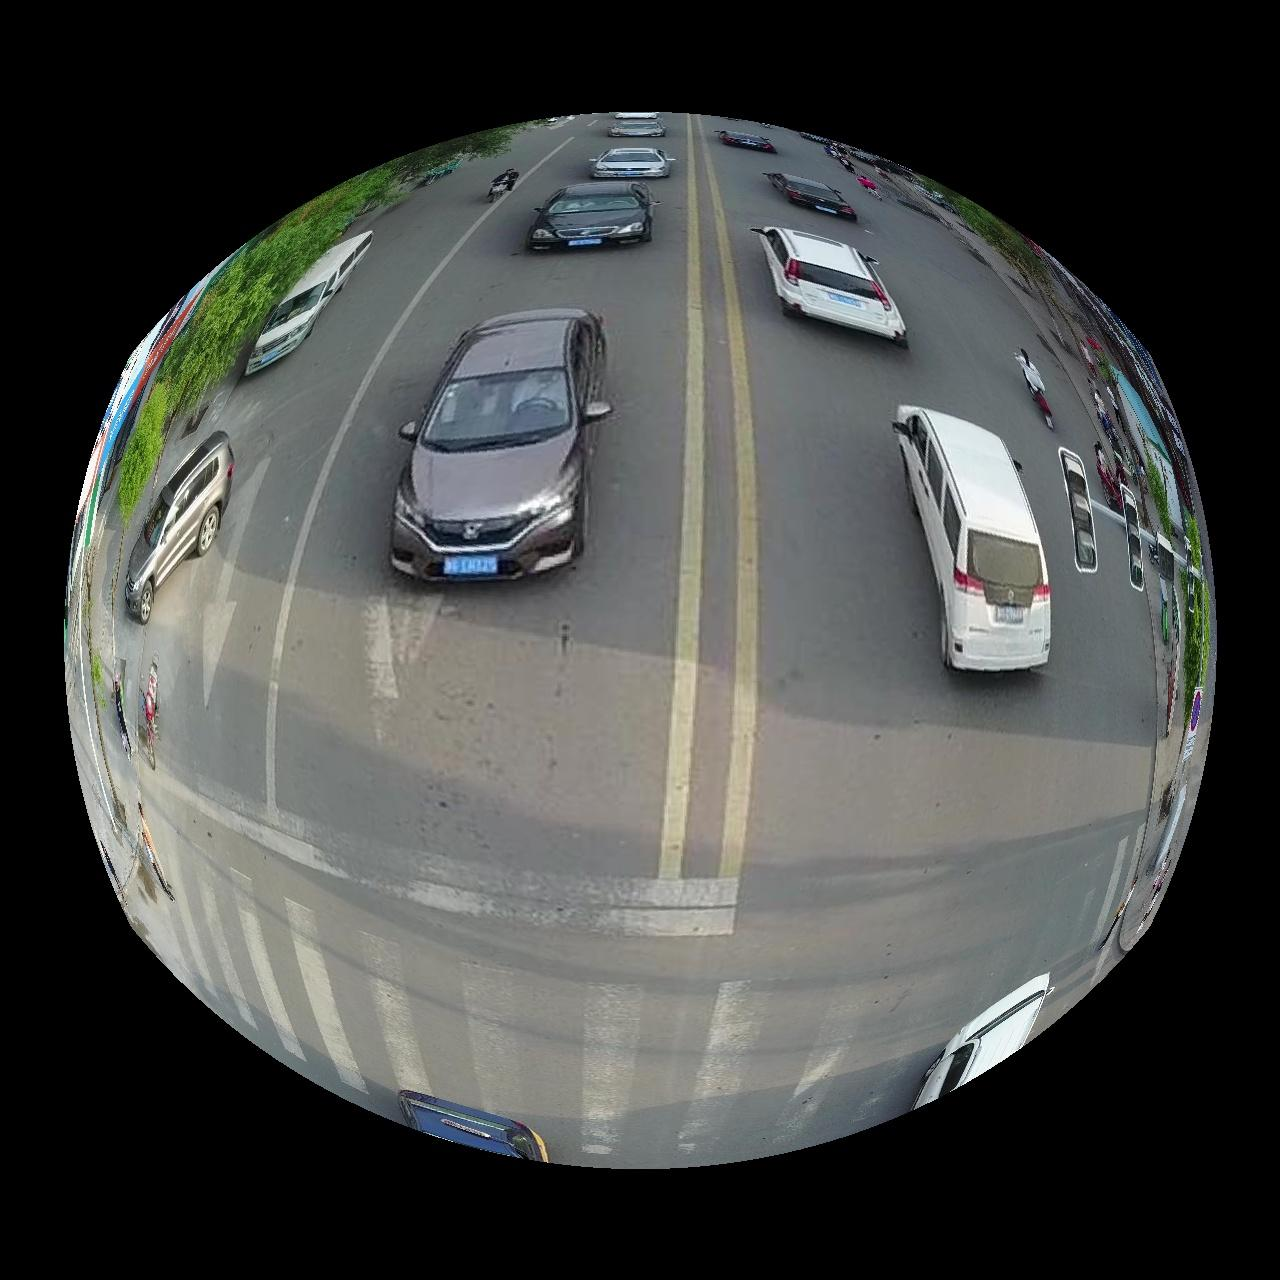cars: (389, 309, 612, 581), (894, 406, 1053, 672), (123, 431, 233, 625), (753, 225, 908, 347), (915, 975, 1055, 1110), (243, 230, 372, 374), (397, 1091, 549, 1164), (527, 181, 658, 248), (765, 171, 858, 218), (590, 147, 673, 177), (716, 129, 778, 152), (608, 120, 666, 136)
trees: (116, 124, 523, 518)
